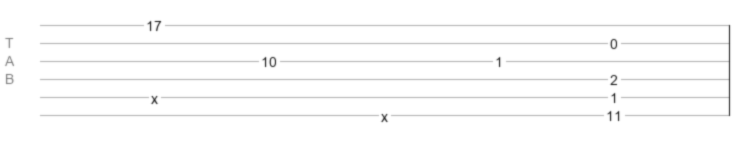0: (610, 36, 618, 46)
1: (495, 54, 503, 64), (610, 90, 618, 100)
10: (261, 54, 277, 64)
11: (606, 108, 622, 118)
17: (146, 18, 162, 28)
2: (610, 72, 618, 82)
x: (151, 91, 158, 99), (381, 109, 388, 117)
